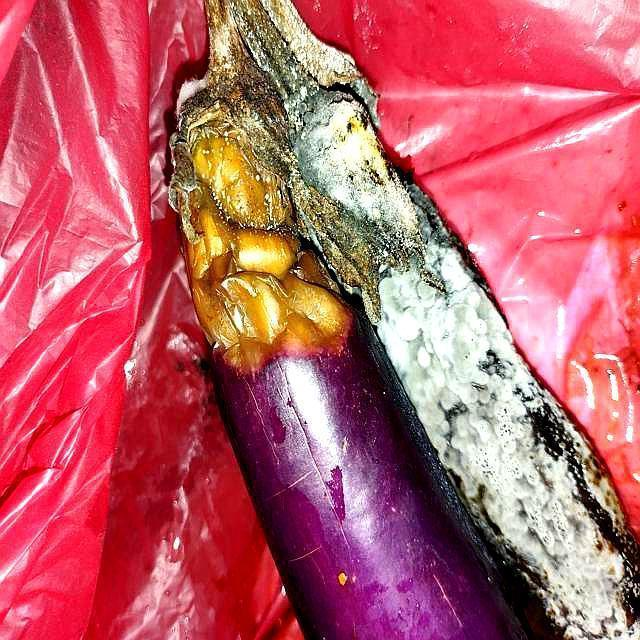Biodegradable: (86, 1, 640, 640)
